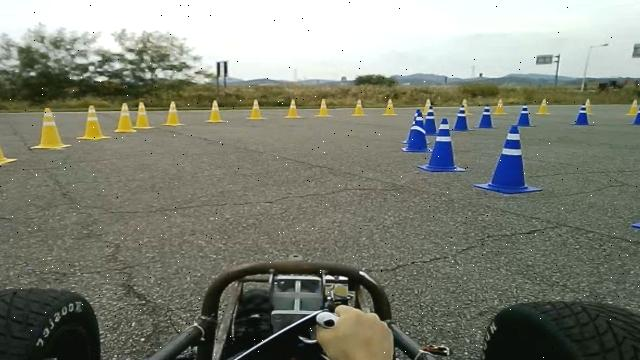blue cone: (474, 124, 544, 194), (416, 117, 468, 172), (398, 110, 425, 155), (632, 213, 640, 233)
yellow cone: (30, 107, 72, 149), (77, 105, 111, 140), (0, 113, 18, 165), (114, 103, 137, 132), (133, 101, 156, 129), (162, 101, 185, 126), (205, 100, 226, 122), (247, 98, 267, 120), (284, 98, 303, 119), (316, 98, 332, 117), (351, 99, 366, 116)
